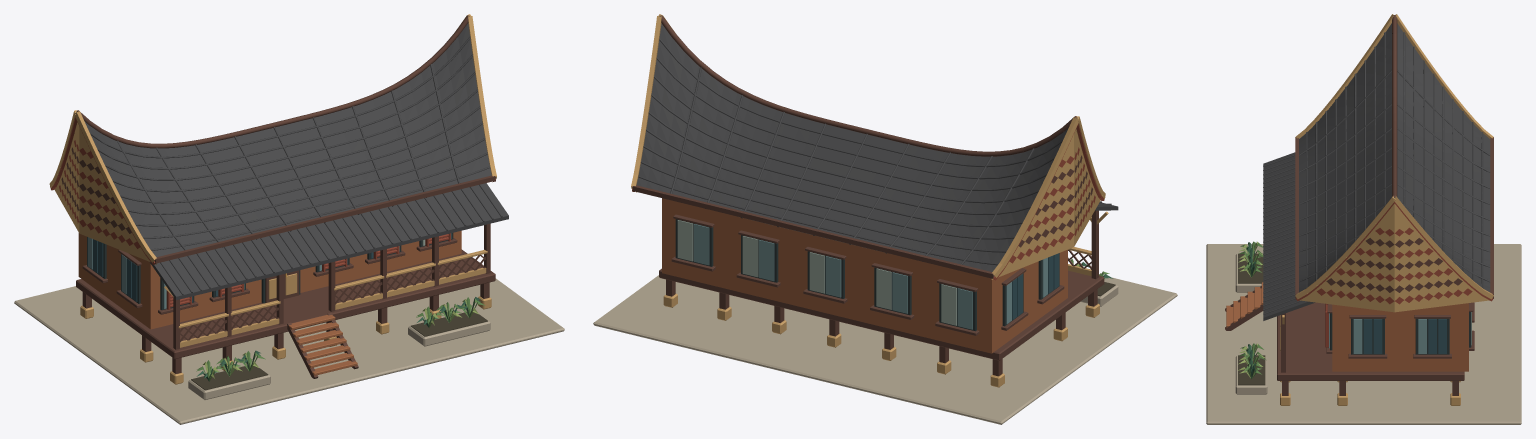
3 views of the same model, side by side, from view 1: azimuth 30°, elevation 25°; view 2: azimuth 150°, elevation 25°; view 3: azimuth 270°, elevation 25° (orthographic). The views are drawn at different scales.
Parts seen in each view (by area): view 1: Swept roof and ridge, Hardwood frame, Shaded serambi, Woven gable ends, Garden beds, Casements and sills, Ventilation lattice, Pandan planting, Entrance joinery, Louvred shutters; view 2: Hardwood frame, Swept roof and ridge, Casements and sills, Woven gable ends, Shaded serambi; view 3: Hardwood frame, Swept roof and ridge, Woven gable ends, Shaded serambi, Casements and sills, Garden beds, Pandan planting.
Part boxes in pixels (x1,y1,x2,y2): Swept roof and ridge: (76, 15, 491, 257); Hardwood frame: (14, 230, 564, 424); Shaded serambi: (150, 183, 508, 378); Woven gable ends: (49, 14, 496, 264); Garden beds: (188, 311, 490, 399); Casements and sills: (82, 233, 457, 314); Ventilation lattice: (180, 255, 485, 342); Pandan planting: (196, 297, 485, 381); Entrance joinery: (261, 270, 300, 303); Louvred shutters: (166, 233, 450, 309); Hardwood frame: (593, 198, 1177, 424); Swept roof and ridge: (636, 15, 1077, 271); Casements and sills: (671, 214, 1064, 335); Woven gable ends: (631, 14, 1105, 280); Shaded serambi: (1068, 201, 1118, 279); Hardwood frame: (1206, 244, 1521, 424); Swept roof and ridge: (1299, 15, 1490, 292); Woven gable ends: (1295, 14, 1493, 312); Shaded serambi: (1225, 152, 1315, 372); Casements and sills: (1326, 302, 1474, 358); Garden beds: (1235, 253, 1267, 394); Pandan planting: (1238, 241, 1266, 379).
Bounding box in the file's own units: 15.36 × 8.98 × 11.12.
